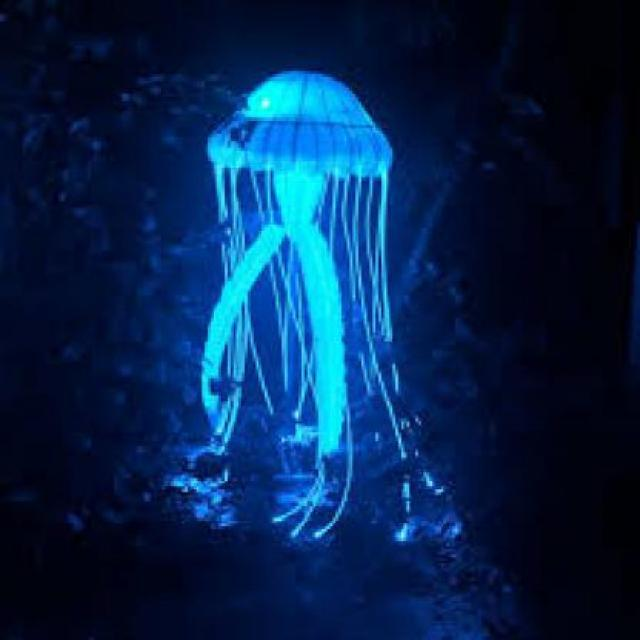Jellyfish: (176, 65, 458, 538)
